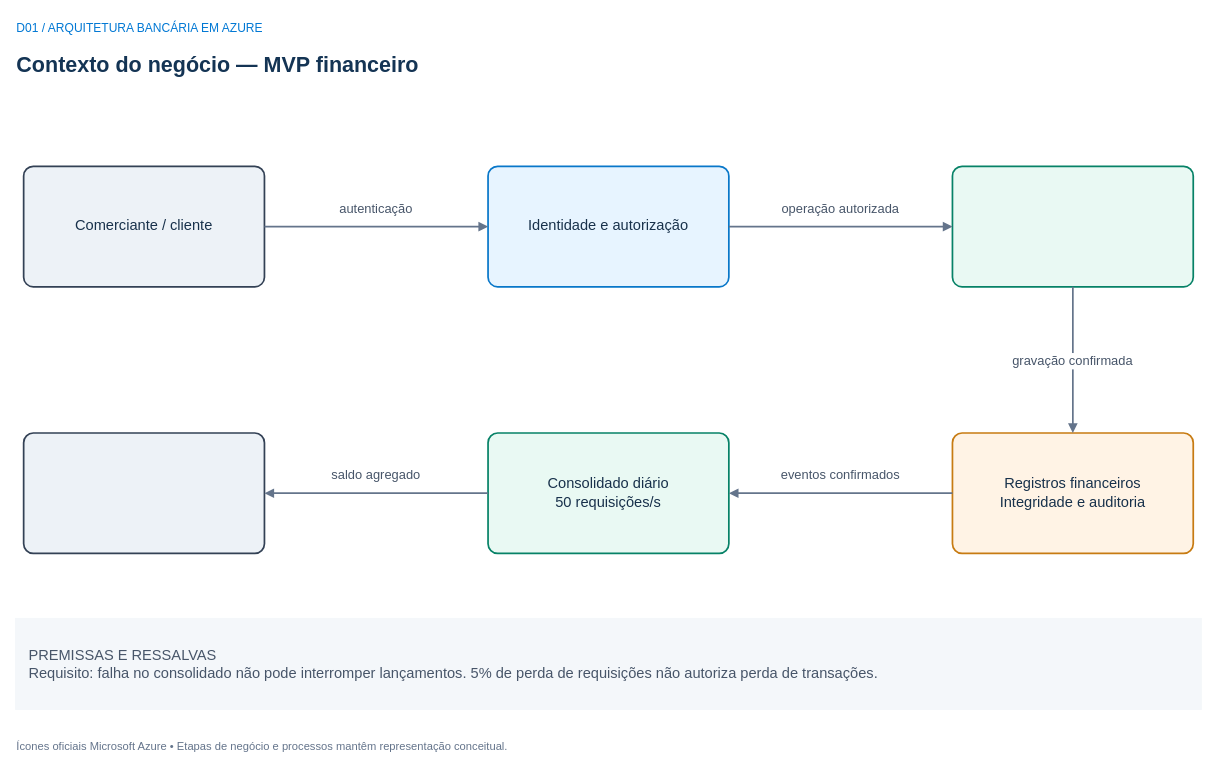
The diagram is 1216 pixels wide and 772 high, and some of its shapes have lost their labels. Each missing label, with the centre of its shape:
Consulta de saldo Diário: point (143, 493)
Serviço de lançamentos Débitos e créditos: point (1072, 226)
